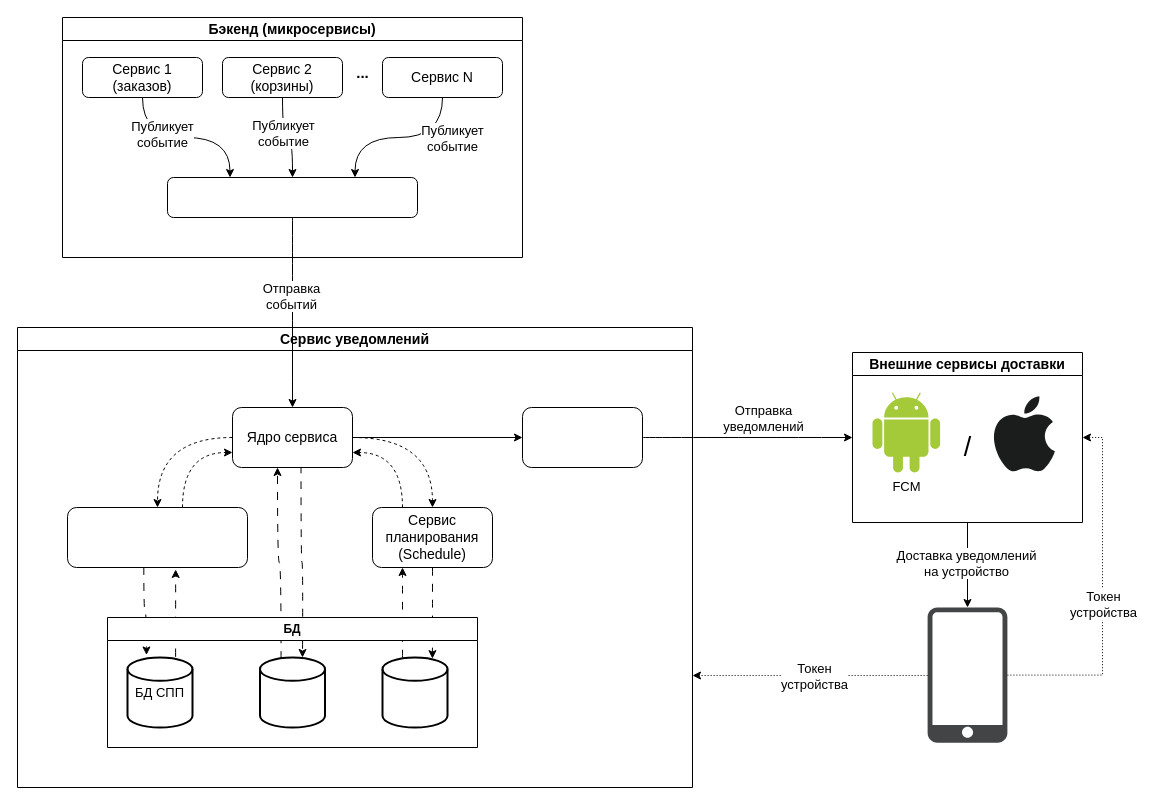
This 1154x805 diagram has some shape labels left out. The centre of each missing label's shape, as x and y in pixels:
"APNs" goes at pixel 1023 434.
"Event Bus (Apache Kafka / RabbitMQ)" goes at pixel 292 197.
"БД СП" goes at pixel 414 692.
"БД ядра (шаблоны , история)" goes at pixel 292 692.
"Очередь уведомлений" goes at pixel 582 437.
"Сервис пользовательских предпочтений (User Preference)" goes at pixel 157 537.
